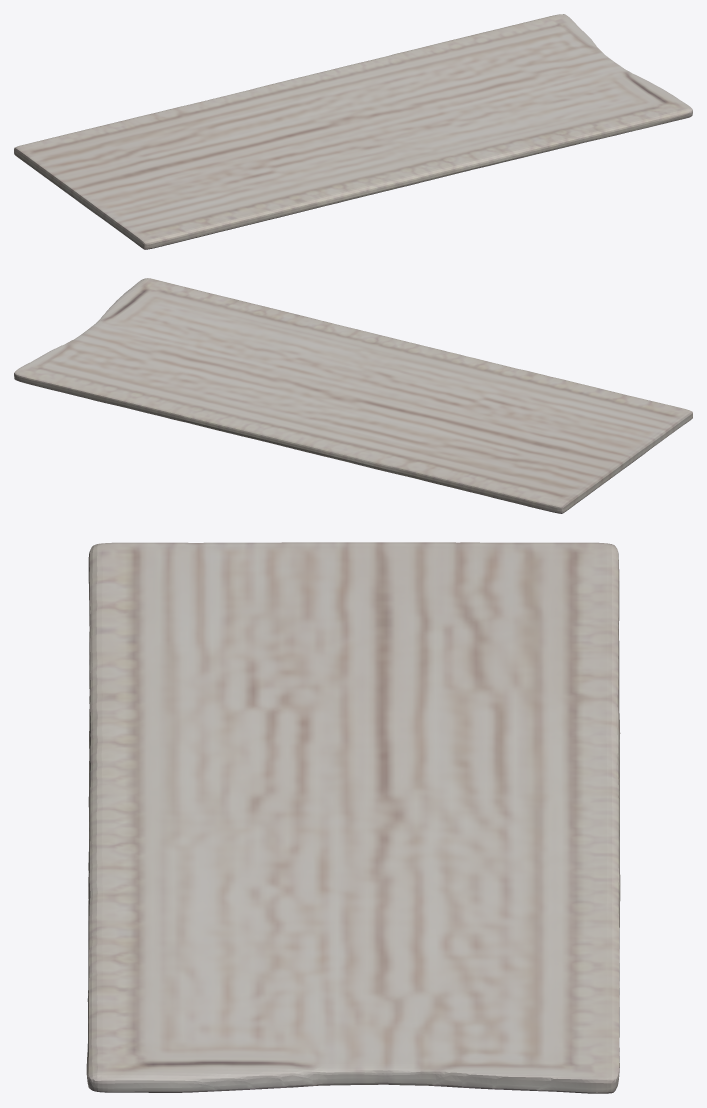
3 views of the same model, one above another, from view 1: azimuth 30°, elevation 25°; view 2: azimuth 150°, elevation 25°; view 3: azimuth 270°, elevation 25° (orthographic). The views are drawn at different scales.
Parts seen in each view (by area): view 1: world; view 2: world; view 3: world.
Boxes of the visible parts, left/top/right/bottom form: world: left=14, top=14, right=692, bottom=249; world: left=14, top=278, right=692, bottom=513; world: left=86, top=542, right=620, bottom=1093.
Bounding box in the file's own units: 1 × 0.0154 × 0.4199.
